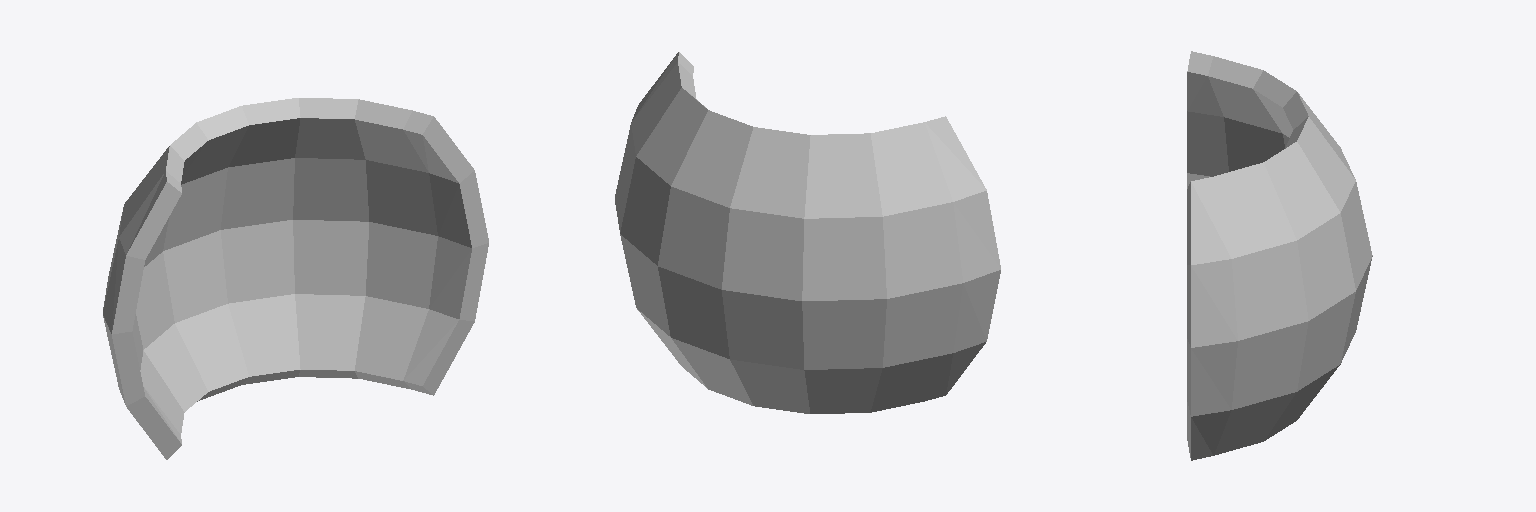
The model's file is boss_shield_mid_collision.obj.
The picture shows the model from 3 angles: view 1: azimuth 30°, elevation 25°; view 2: azimuth 150°, elevation 25°; view 3: azimuth 270°, elevation 25°; orthographic projection.
Visible parts, largest first — view 1: Sphere; view 2: Sphere; view 3: Sphere.
Part boxes in pixels (x1,y1,x2,y2): Sphere: (103,98,488,459); Sphere: (615,52,1000,413); Sphere: (1187,51,1372,460).
Size of the model in its own units: 3.8 by 2.69 by 1.62.